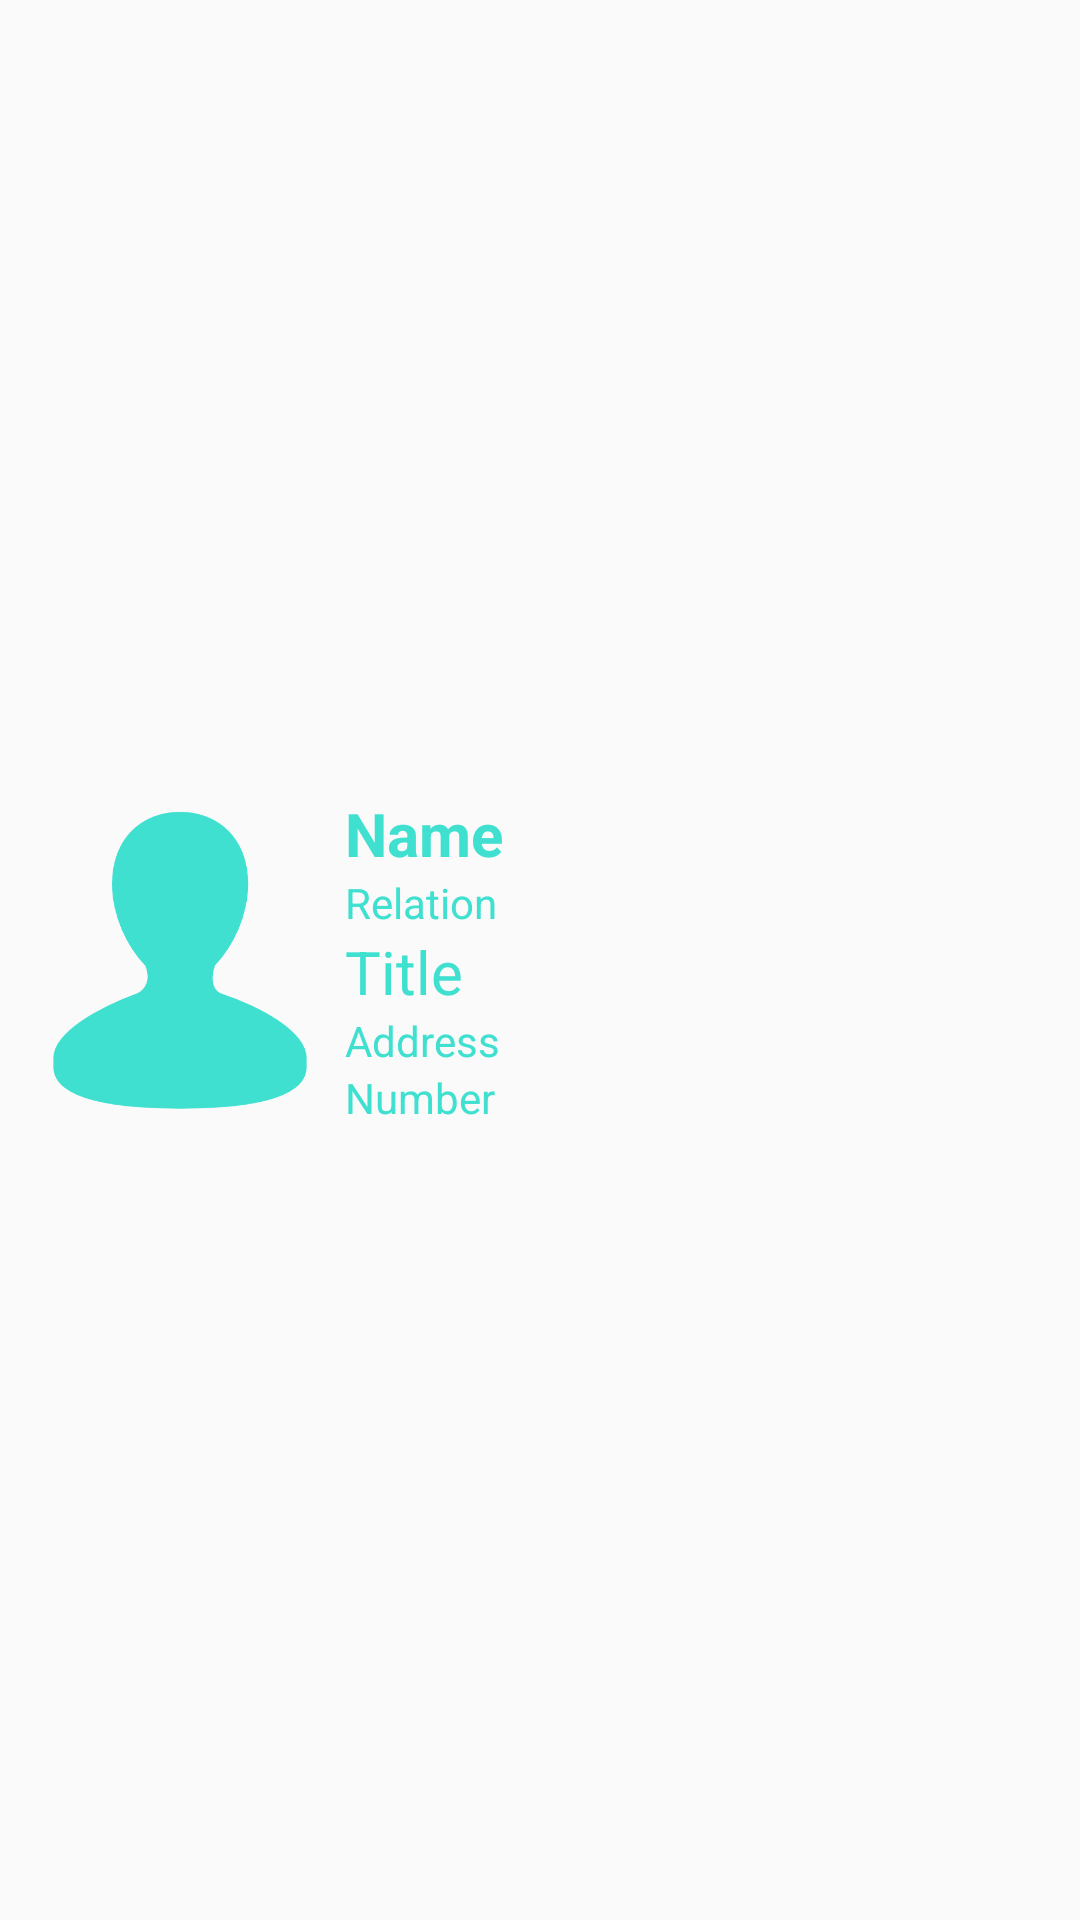

Named icons in this screenshot (1080x1920) and their bounding boxes, (x1, y1, x2, y2):
contact: (53, 812, 307, 1109)
